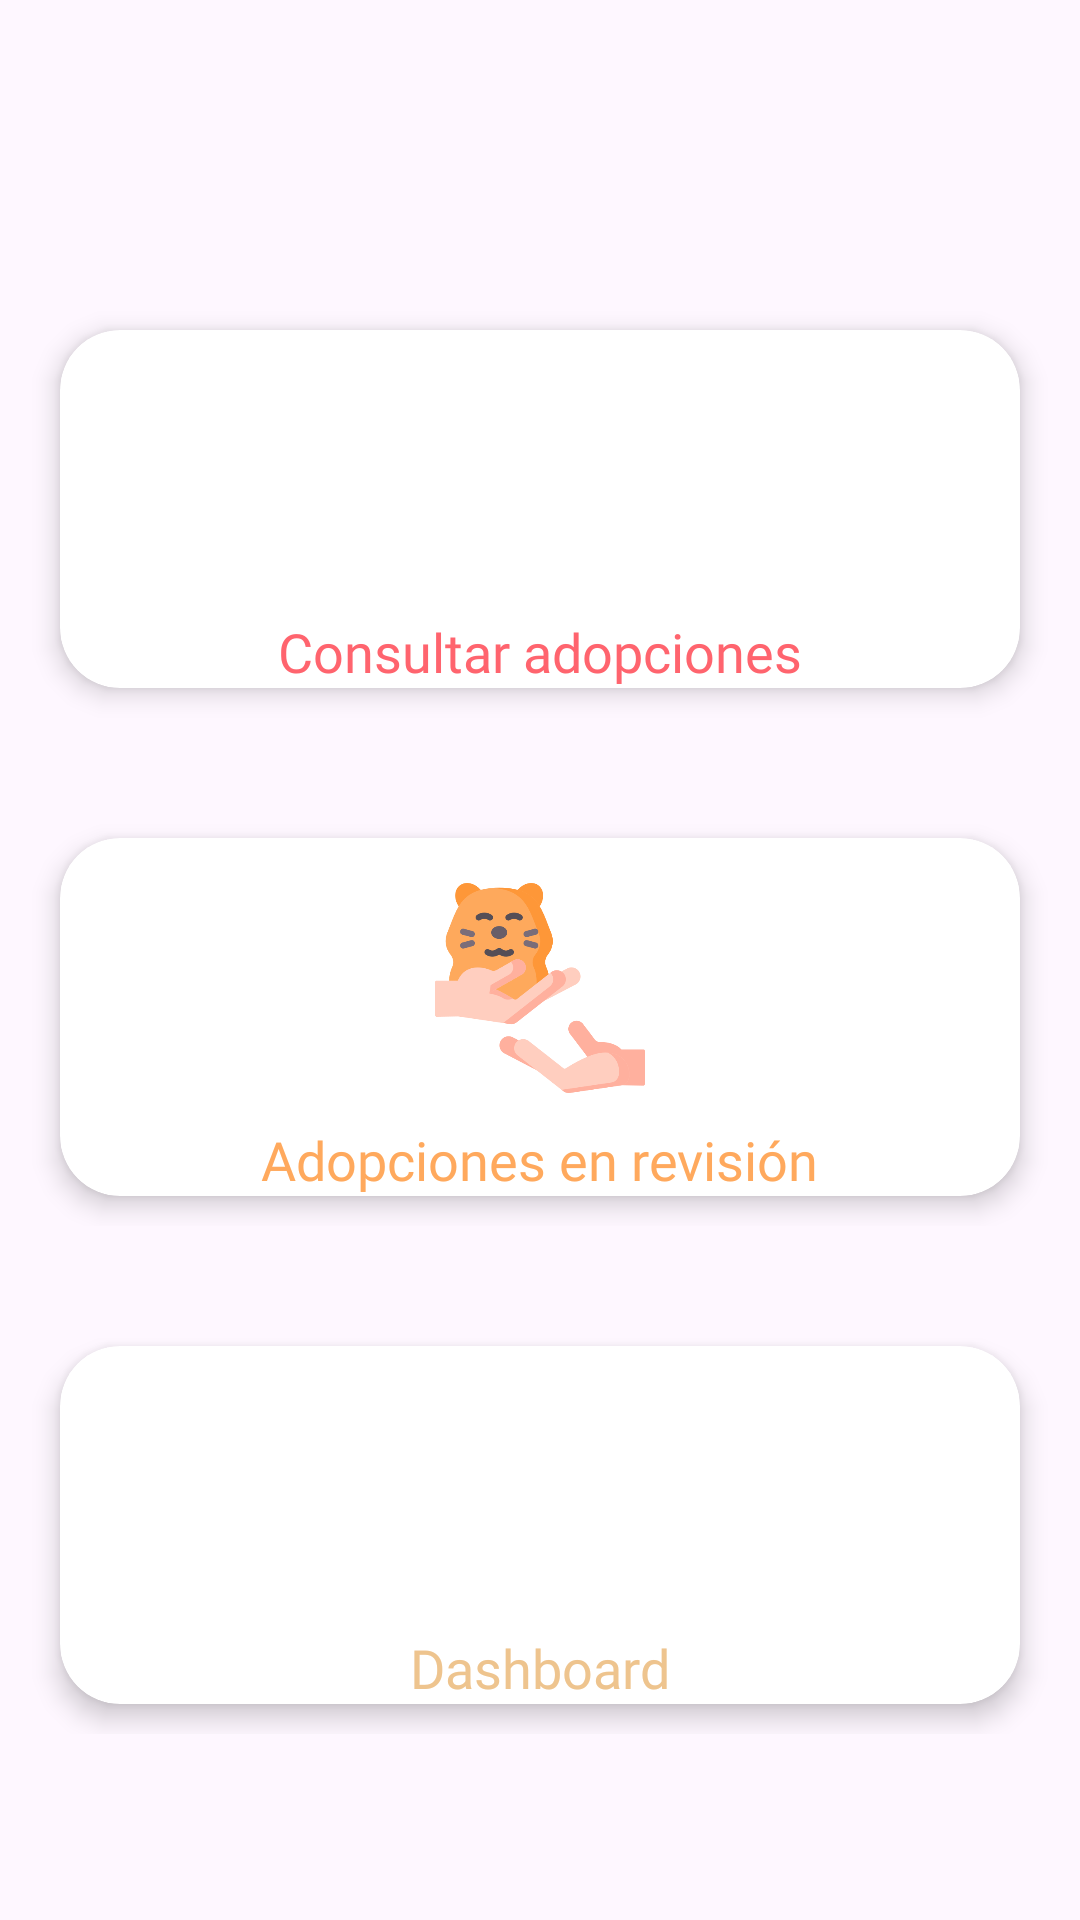

Named icons in this screenshot (1080px×1920px) and their bounding boxes, (x1, y1, x2, y2):
adopciones en proceso: (435, 883, 645, 1093)
